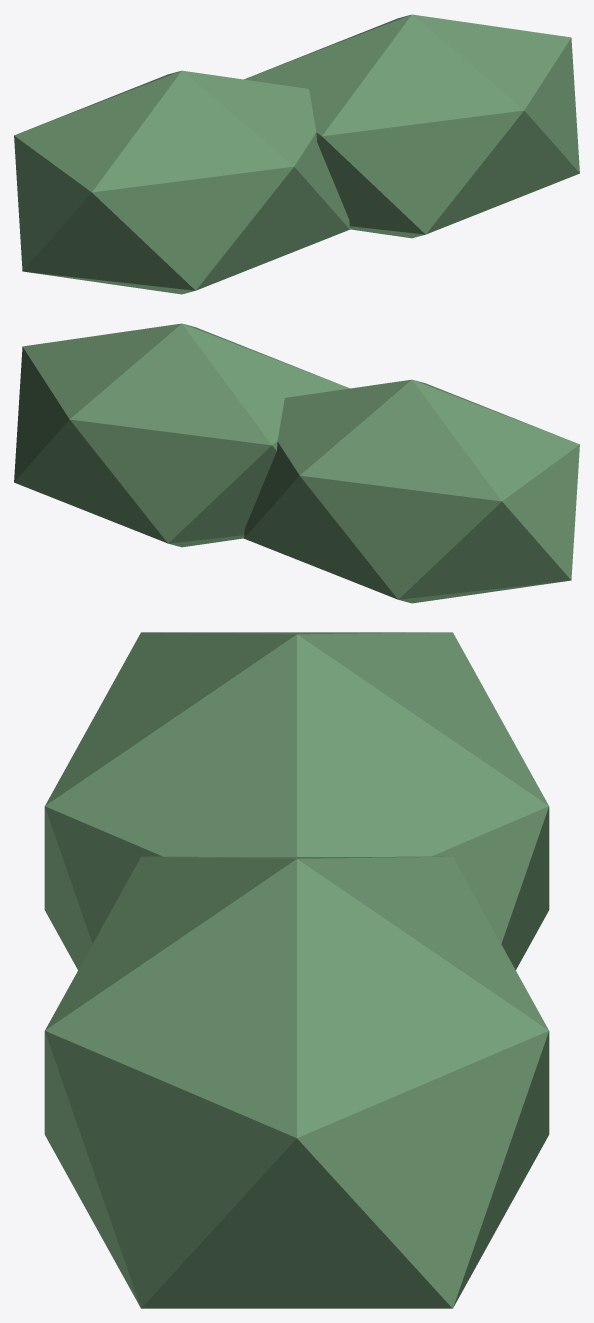
File: veg-hedge-seg.glb
3 renders of one model, top to bottom at view 1: azimuth 30°, elevation 25°; view 2: azimuth 150°, elevation 25°; view 3: azimuth 270°, elevation 25°, orthographic. The views are drawn at different scales.
Parts seen in each view (by area): view 1: hedge; view 2: hedge; view 3: hedge.
Boxes of the visible parts, x1,y1,x2,y2 form: hedge: [14, 14, 579, 294]; hedge: [14, 323, 579, 603]; hedge: [44, 632, 549, 1308].
Size of the model in its own units: 2.39 by 0.93 by 0.9493.
